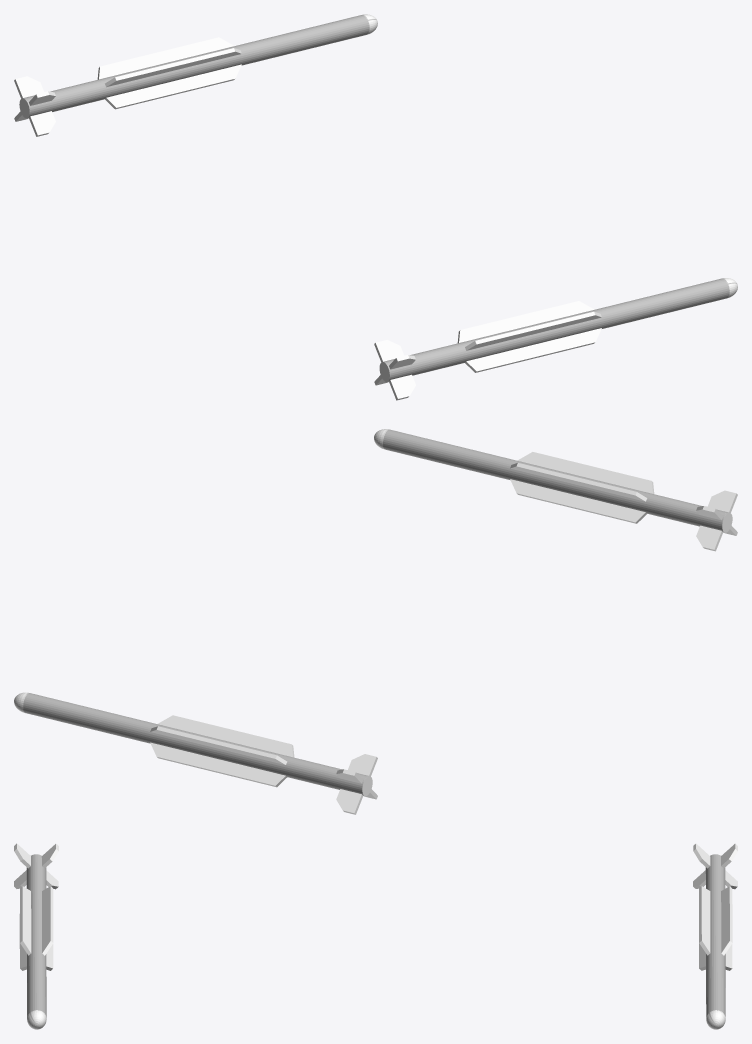
The model's file is aam5lf2a34.glb.
3 views of the same model, one above another, from view 1: azimuth 30°, elevation 25°; view 2: azimuth 150°, elevation 25°; view 3: azimuth 270°, elevation 25° (orthographic). The views are drawn at different scales.
Visible parts, largest first — view 1: 円柱.003, 円柱.006; view 2: 円柱.006, 円柱.003; view 3: 円柱.006, 円柱.003.
Boxes of the visible parts, <box> form: 円柱.003: <box>14,14,377,136</box>; 円柱.006: <box>374,278,737,400</box>; 円柱.006: <box>374,429,737,551</box>; 円柱.003: <box>14,692,377,814</box>; 円柱.006: <box>14,843,58,1029</box>; 円柱.003: <box>693,843,737,1029</box>.
Bounding box in the file's own units: 4.09 × 0.477 × 7.71.
3 materials, 1 textured.
